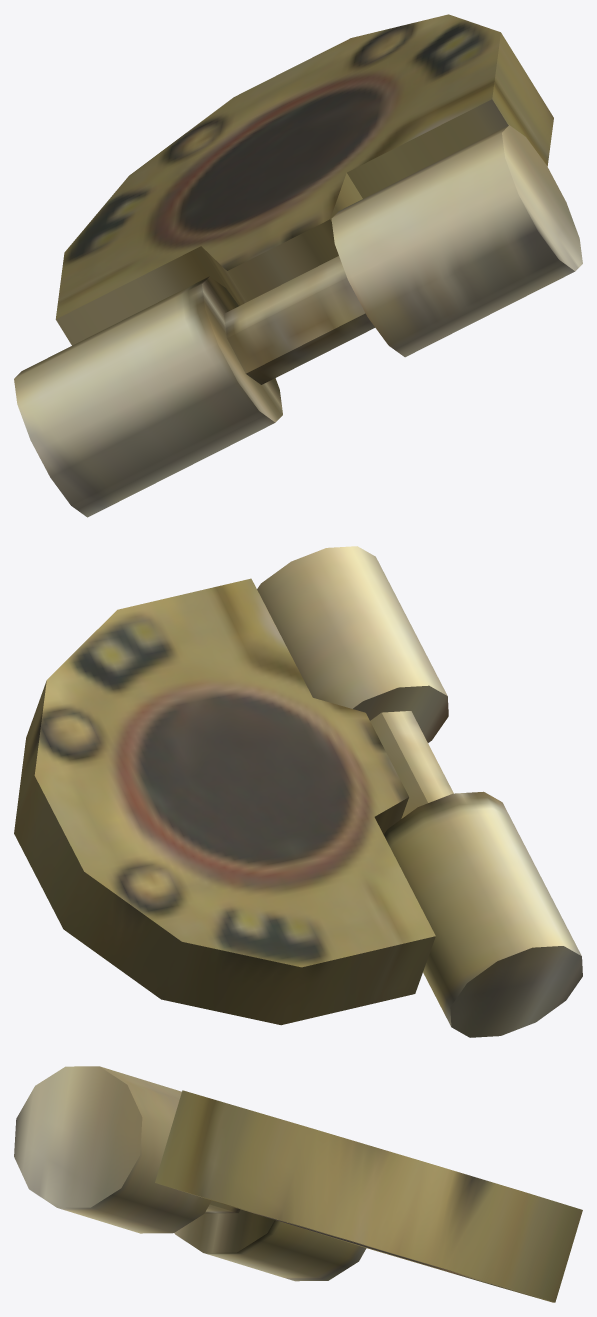
Rendered from mahli_cover_link.dae.
3 views of the same model, one above another, from view 1: azimuth 30°, elevation 25°; view 2: azimuth 150°, elevation 25°; view 3: azimuth 270°, elevation 25° (orthographic). The views are drawn at different scales.
Parts seen in each view (by area): view 1: mahli_cover_link; view 2: mahli_cover_link; view 3: mahli_cover_link.
Boxes of the visible parts, bbox=[...] form: mahli_cover_link: bbox=[14, 14, 582, 517]; mahli_cover_link: bbox=[14, 546, 582, 1037]; mahli_cover_link: bbox=[14, 1066, 582, 1302].
Size of the model in its own units: 0.0612 by 0.0616 by 0.0415.
1 material, 1 textured.
